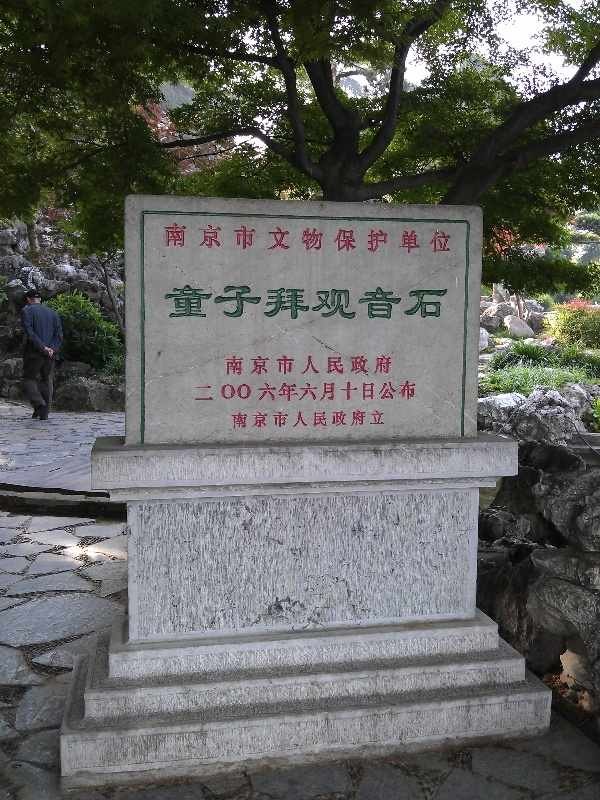text: (177, 283, 192, 320), (193, 283, 208, 320), (209, 283, 224, 320), (225, 283, 240, 320), (241, 283, 256, 320), (257, 283, 272, 320), (273, 283, 288, 320), (289, 283, 304, 320), (305, 283, 320, 320), (321, 283, 336, 320), (337, 283, 352, 320), (353, 283, 368, 320), (369, 283, 384, 320), (385, 283, 400, 320), (401, 283, 416, 320), (417, 283, 432, 320), (433, 283, 448, 320), (177, 223, 192, 254), (193, 223, 208, 254), (209, 223, 224, 254), (225, 223, 240, 254), (241, 223, 256, 254), (257, 223, 272, 254), (273, 223, 288, 254), (289, 223, 304, 254), (305, 223, 320, 254), (321, 223, 336, 254), (337, 223, 352, 254), (353, 223, 368, 254), (369, 223, 384, 254), (385, 223, 400, 254), (401, 223, 416, 254), (417, 223, 432, 254), (433, 223, 448, 254), (164, 283, 176, 320), (163, 223, 176, 254), (225, 353, 240, 378), (241, 353, 256, 378), (257, 353, 272, 378), (273, 353, 288, 378), (289, 353, 304, 378), (305, 353, 320, 378), (321, 353, 336, 378), (337, 353, 352, 378), (353, 353, 368, 378), (369, 353, 384, 378), (193, 380, 208, 404), (209, 380, 224, 404), (225, 380, 240, 404), (241, 380, 256, 404), (257, 380, 272, 404), (273, 380, 288, 404), (289, 380, 304, 404), (305, 380, 320, 404), (321, 380, 336, 404), (337, 380, 352, 404), (353, 380, 368, 404), (369, 380, 384, 404), (385, 380, 400, 404), (401, 380, 416, 404), (241, 409, 256, 430), (257, 409, 272, 430), (273, 409, 288, 430), (289, 409, 304, 430), (305, 409, 320, 430), (321, 409, 336, 430), (337, 409, 352, 430), (353, 409, 368, 430), (369, 409, 384, 430), (385, 353, 394, 378), (230, 409, 240, 430), (449, 223, 453, 254), (417, 380, 419, 404), (223, 353, 224, 378), (385, 409, 386, 430)
